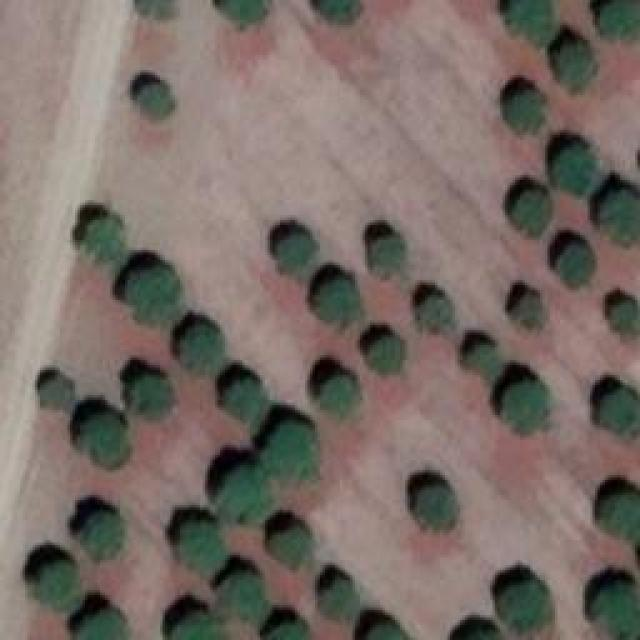Tree: (263, 422, 323, 480), (502, 580, 560, 635), (128, 263, 181, 323), (218, 468, 273, 523), (173, 520, 228, 573), (590, 585, 640, 640), (80, 410, 128, 465), (500, 0, 555, 48), (508, 372, 553, 430), (82, 510, 130, 563), (215, 570, 263, 623), (597, 187, 640, 244), (550, 147, 600, 195), (315, 368, 360, 421), (30, 563, 80, 608), (180, 322, 225, 370), (503, 87, 548, 135), (128, 367, 171, 415), (275, 230, 318, 278), (225, 375, 270, 420), (320, 278, 365, 323), (80, 602, 133, 640), (320, 573, 360, 623), (368, 232, 408, 280), (263, 527, 313, 565), (85, 215, 128, 258), (602, 490, 640, 538), (555, 243, 595, 288), (138, 80, 181, 120), (420, 483, 460, 526), (512, 290, 550, 333), (365, 328, 405, 368), (463, 340, 503, 380), (600, 0, 640, 40), (510, 190, 550, 230), (215, 0, 270, 28), (558, 45, 593, 88), (603, 388, 638, 431), (313, 0, 366, 28), (170, 615, 225, 640), (420, 295, 455, 333), (40, 375, 75, 410), (610, 303, 640, 338), (267, 617, 312, 640), (368, 620, 418, 640), (132, 0, 177, 22)
